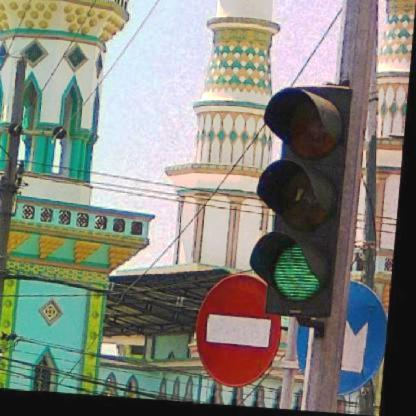Traffic Light -Green-: (250, 81, 352, 317)
